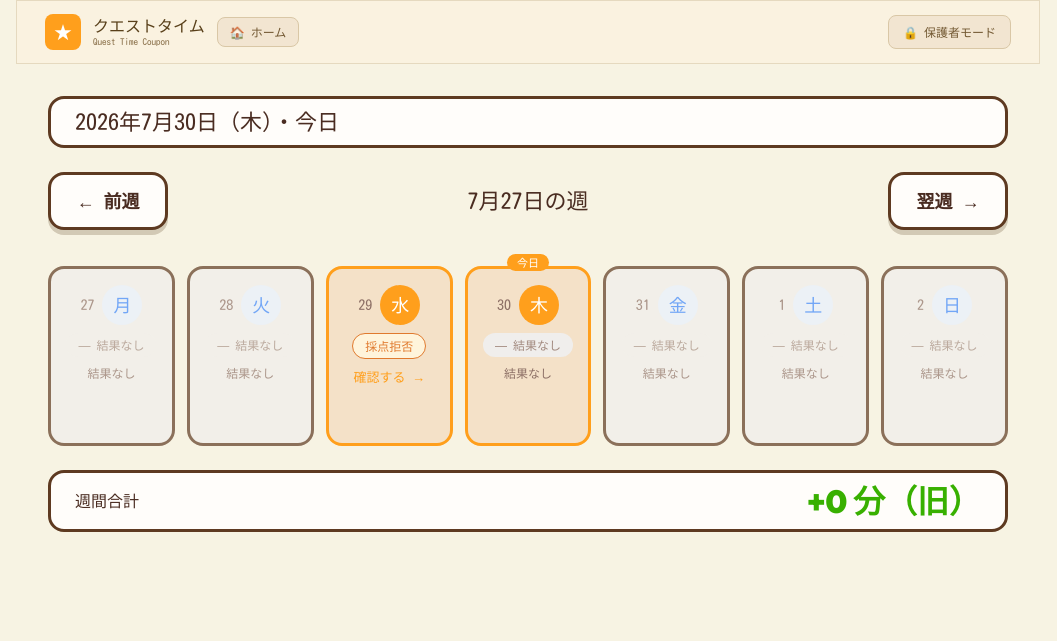
Test: ResultsPage reasonCode › grade_rejected は拒否理由文を表示する
Click the button with test id "results-day-2026-07-29": click(389, 356) [326,266,453,446]
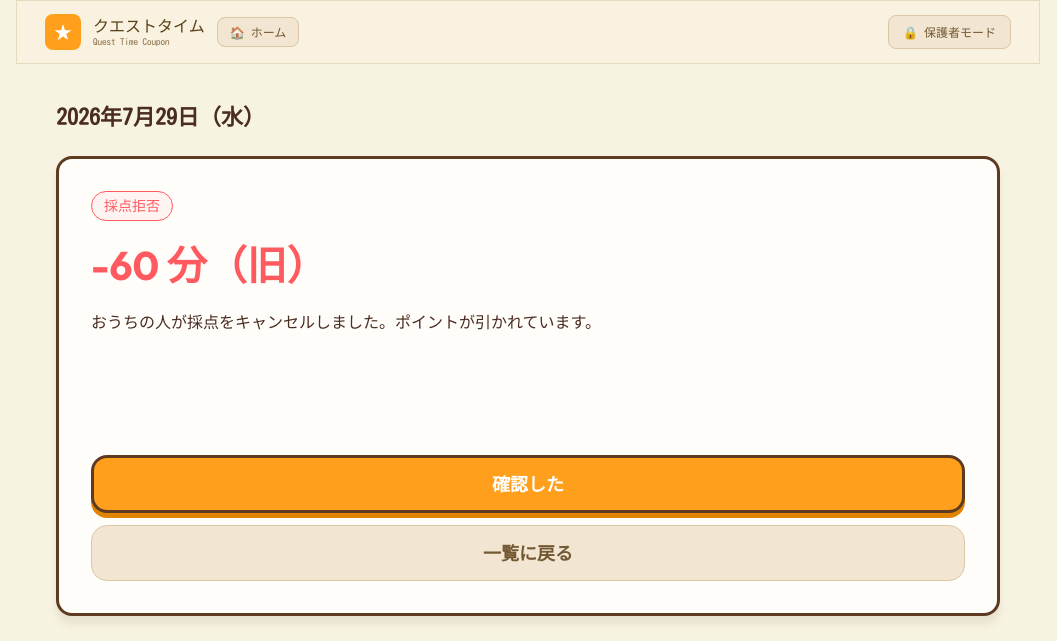
Expected: the text with test id "results-detail-badge" reads "採点拒否", [104,198,160,212]
Result: the text with test id "reason-code-message" shows "おうちの人が採点をキャンセルしました" at [91,314,601,330]
